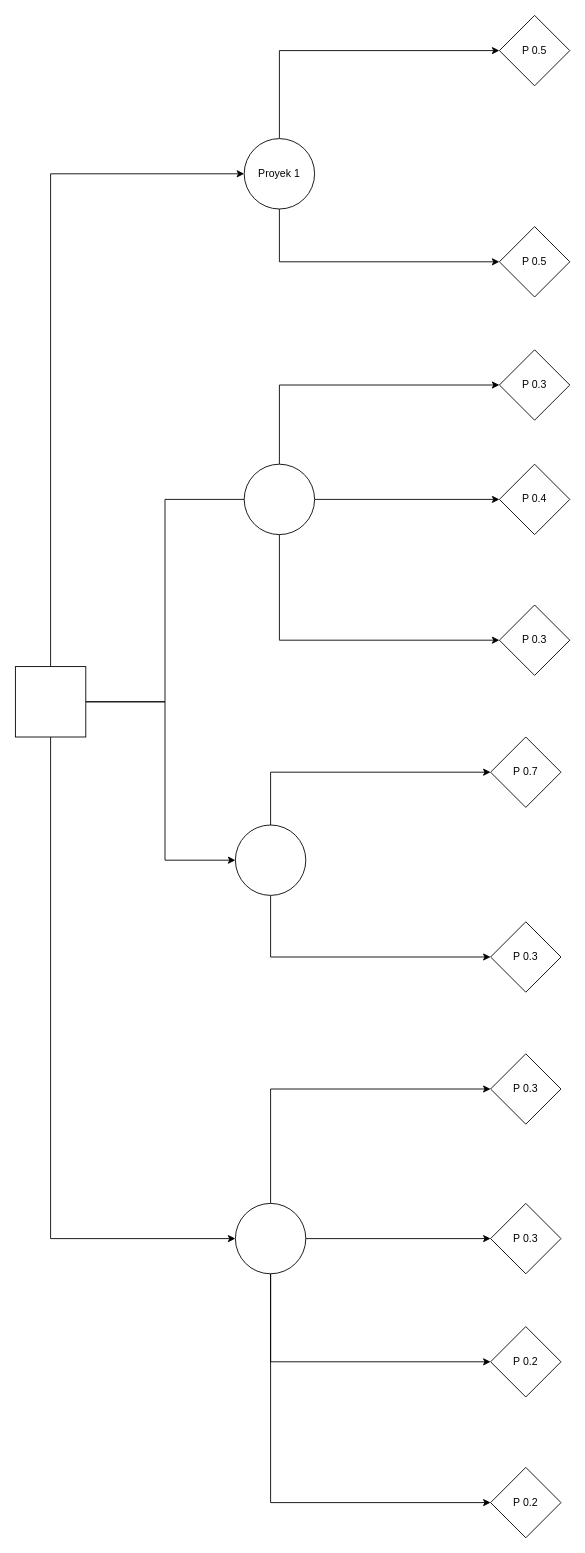
This 585x1553 diagram has some shape labels left out. The box of each missing label's shape, as (x1, y1, x2, y2) in pixels:
Decision: (15, 666, 86, 737)
Proyek 2: (243, 463, 315, 535)
Proyek 3: (235, 824, 306, 895)
Proyek 4: (235, 1203, 306, 1274)
